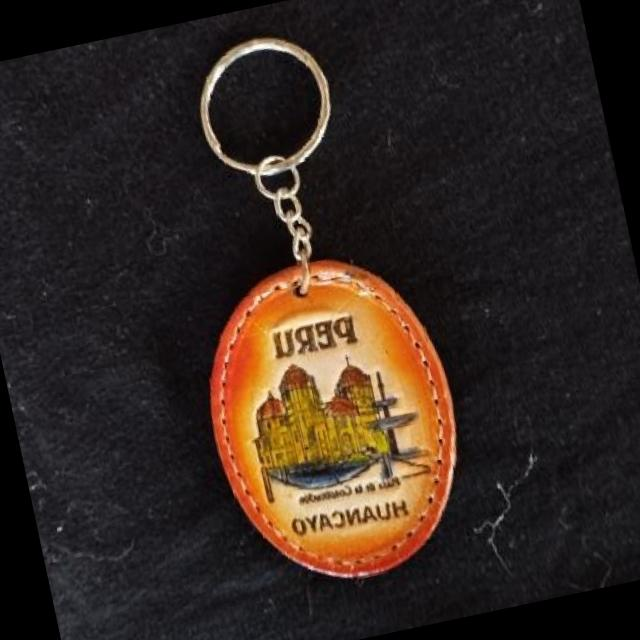Llavero: (181, 236, 486, 602)
